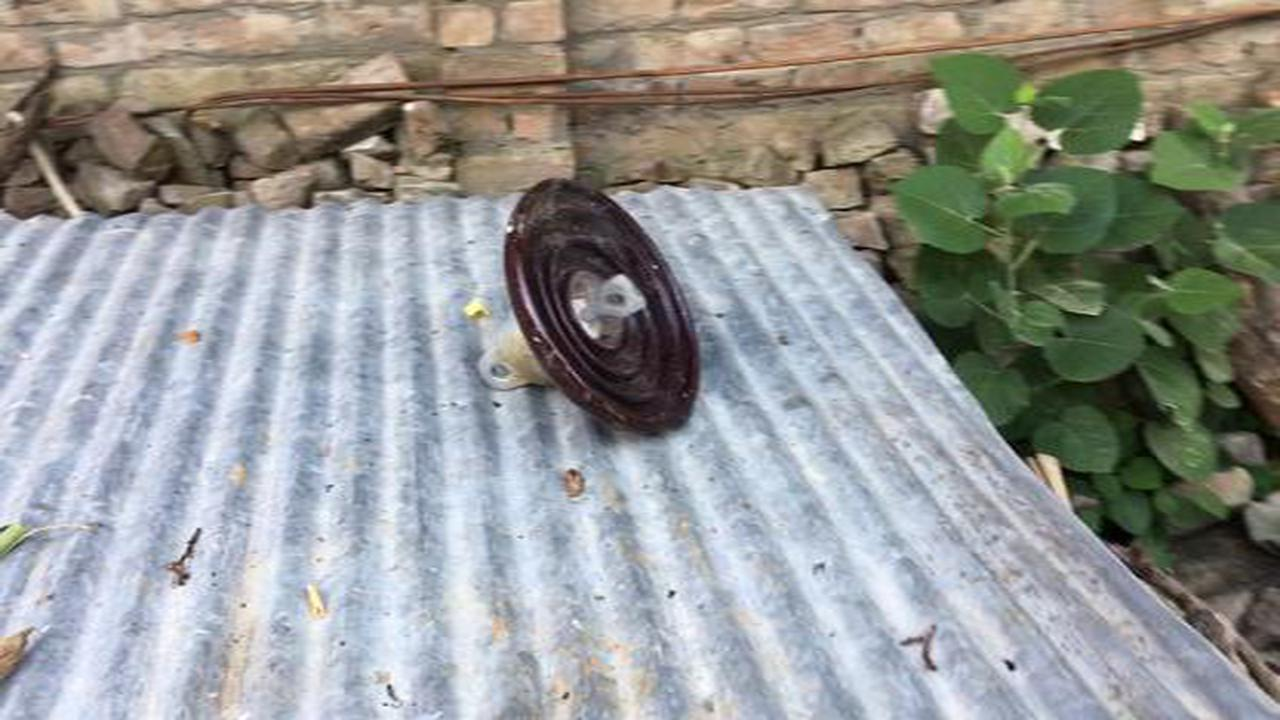insulator_disc: (476, 176, 707, 445)
